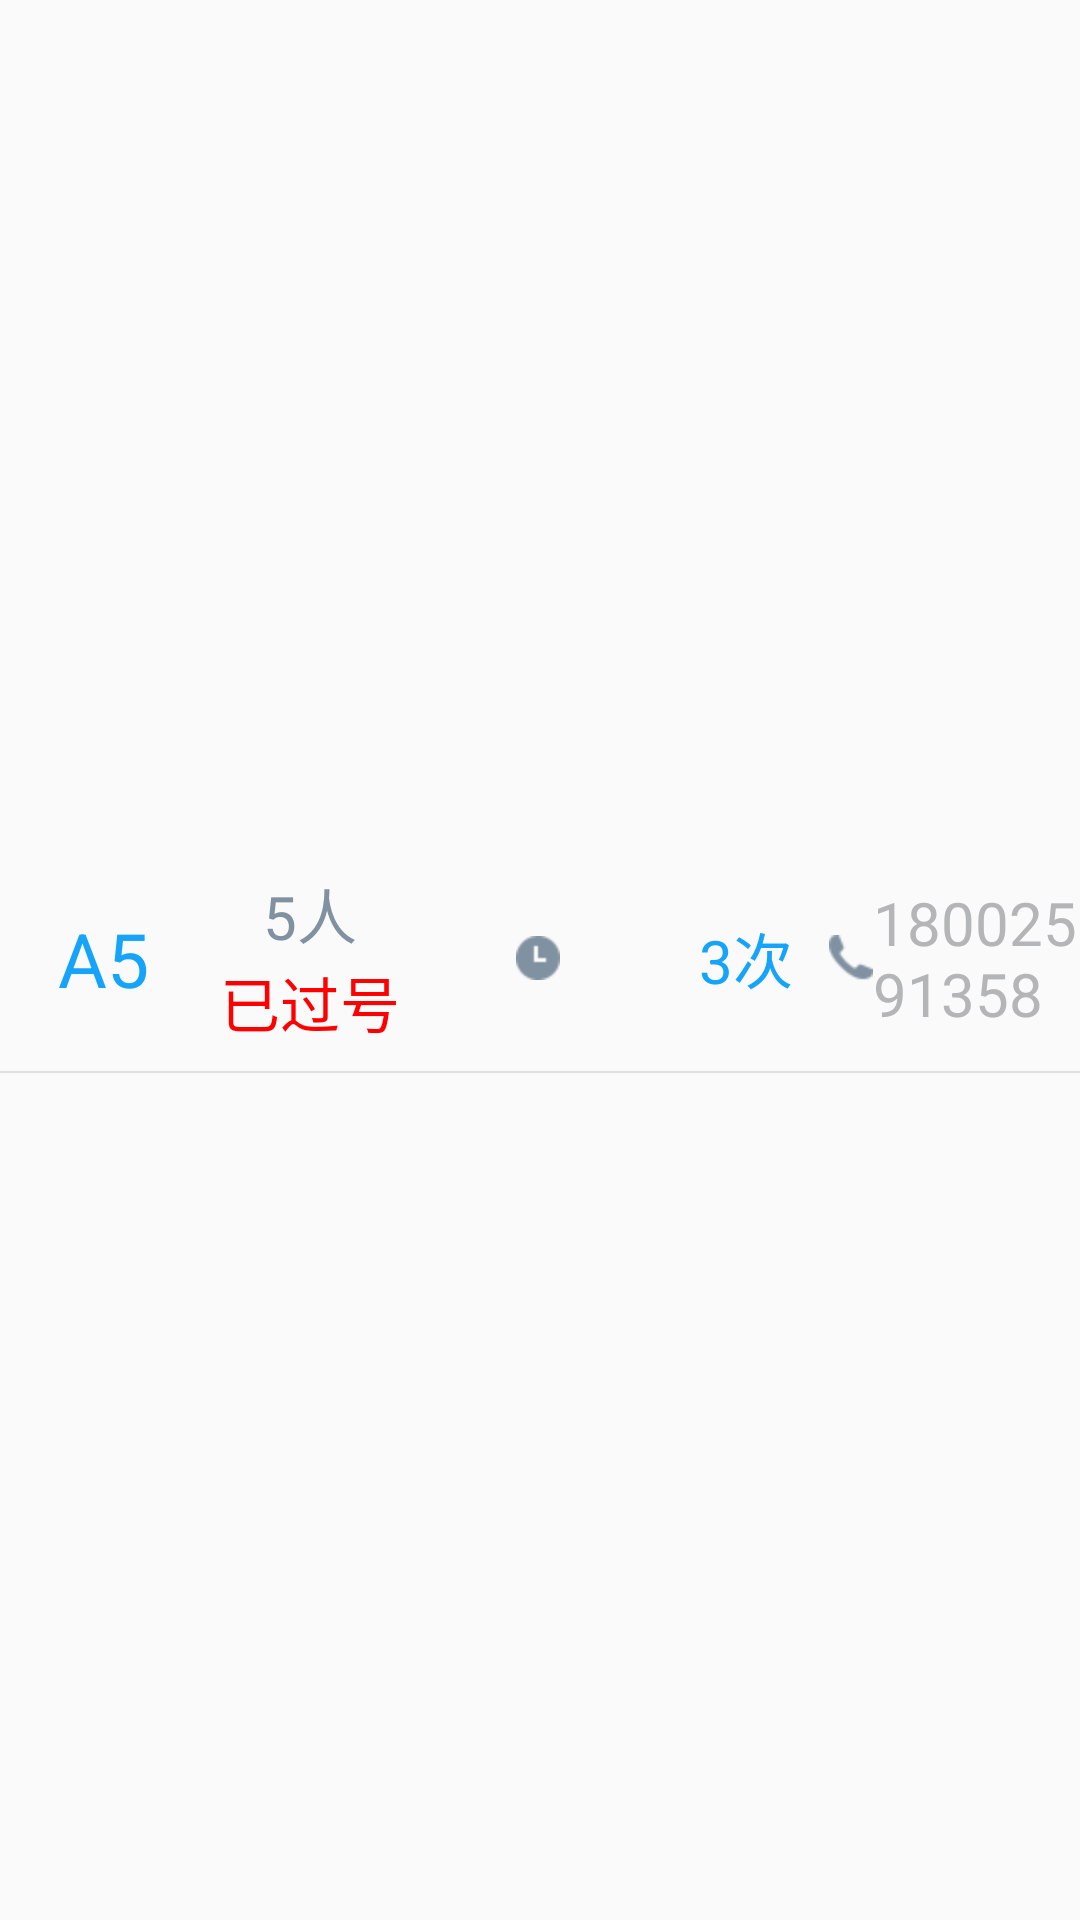

Where icons sit on this 1080x1920 app screen, as (x1, y1, x2, y2):
phone: (829, 935, 873, 980)
time: (516, 936, 560, 980)
